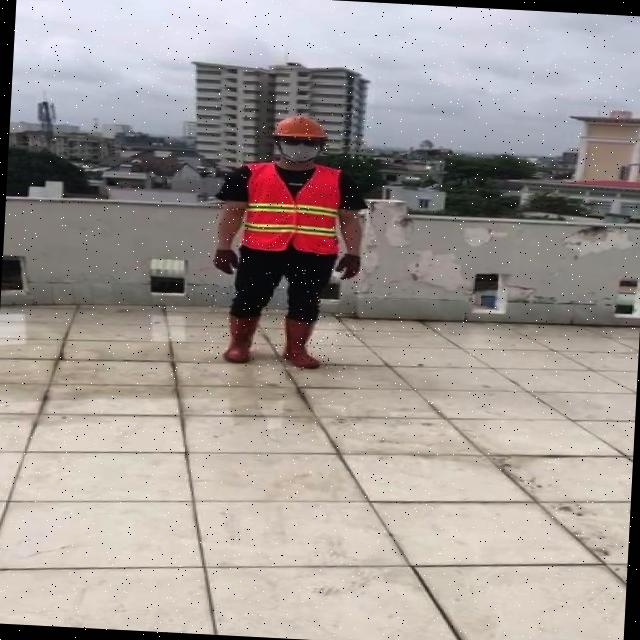boots: (280, 317, 326, 371), (222, 312, 260, 366)
helmet: (272, 113, 326, 139)
vest: (244, 162, 342, 255)
